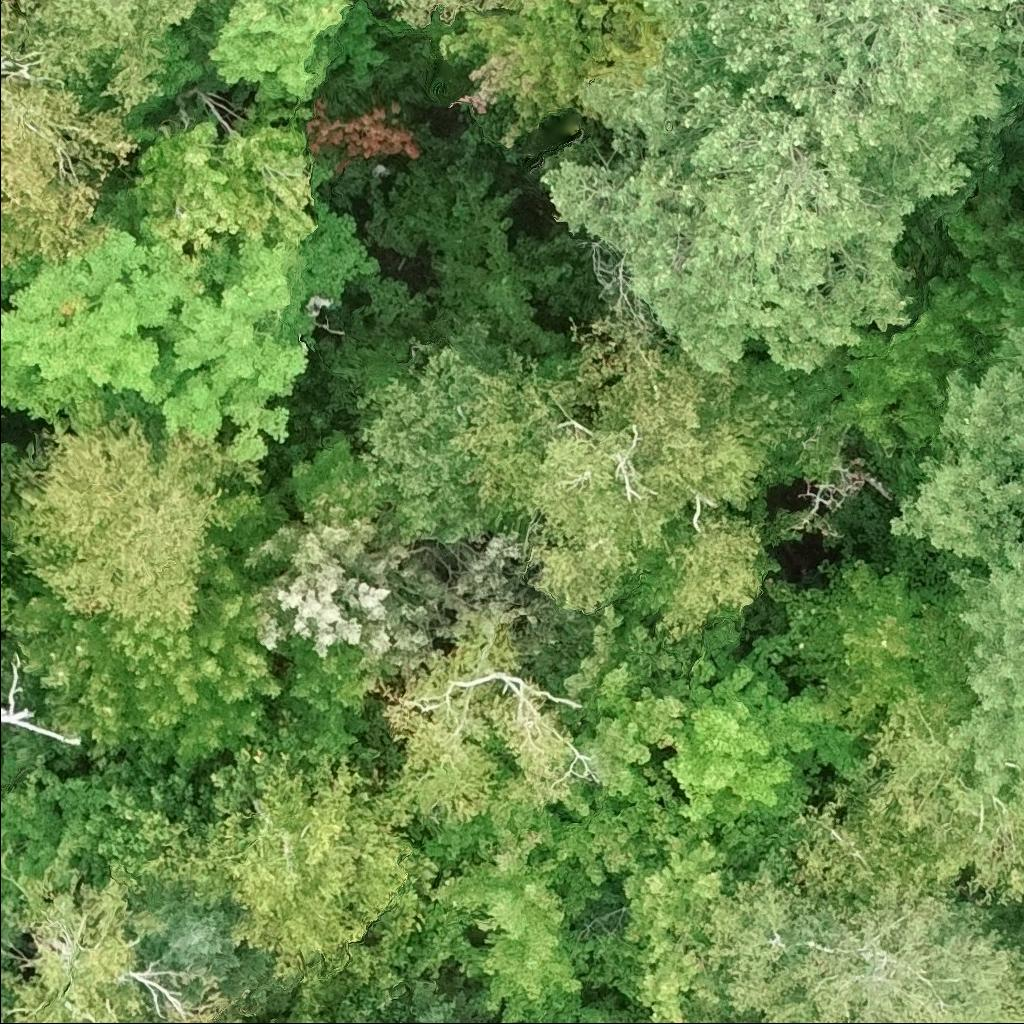crown: (536, 15, 923, 378), (448, 310, 817, 672), (0, 186, 314, 463), (659, 0, 1023, 201), (880, 320, 1023, 812), (233, 430, 474, 716), (129, 750, 418, 986), (0, 551, 287, 776), (0, 401, 276, 632), (694, 844, 1023, 1023), (786, 689, 1023, 909), (654, 621, 861, 840), (541, 599, 693, 881), (344, 319, 511, 549), (764, 551, 973, 731), (434, 832, 612, 1023), (130, 102, 322, 271), (367, 683, 576, 831), (582, 831, 739, 1023), (0, 77, 143, 286), (0, 738, 111, 964), (0, 871, 165, 1023), (12, 0, 220, 113), (436, 0, 594, 148), (195, 695, 371, 817), (131, 881, 292, 1009), (204, 0, 354, 108), (83, 753, 214, 876), (0, 656, 83, 747), (380, 0, 555, 33), (344, 986, 496, 1023), (164, 990, 235, 1023), (0, 0, 35, 56), (685, 1001, 746, 1023), (616, 1010, 650, 1023), (559, 0, 593, 12)
